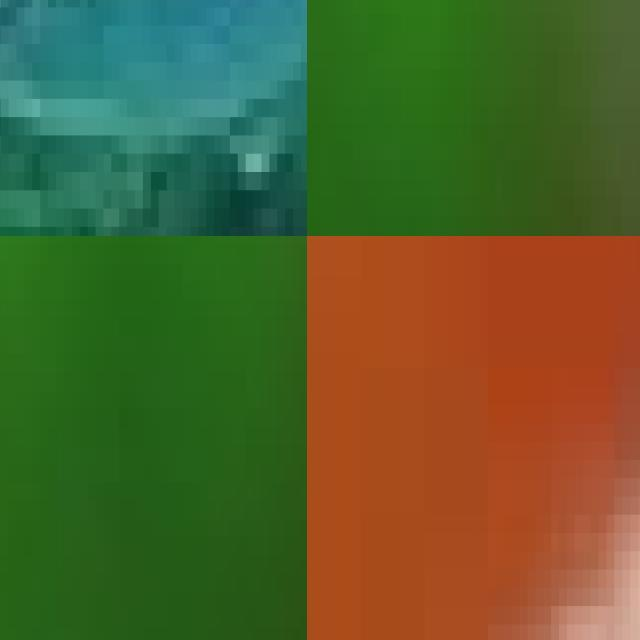fish: (0, 236, 307, 555), (0, 0, 307, 236)
